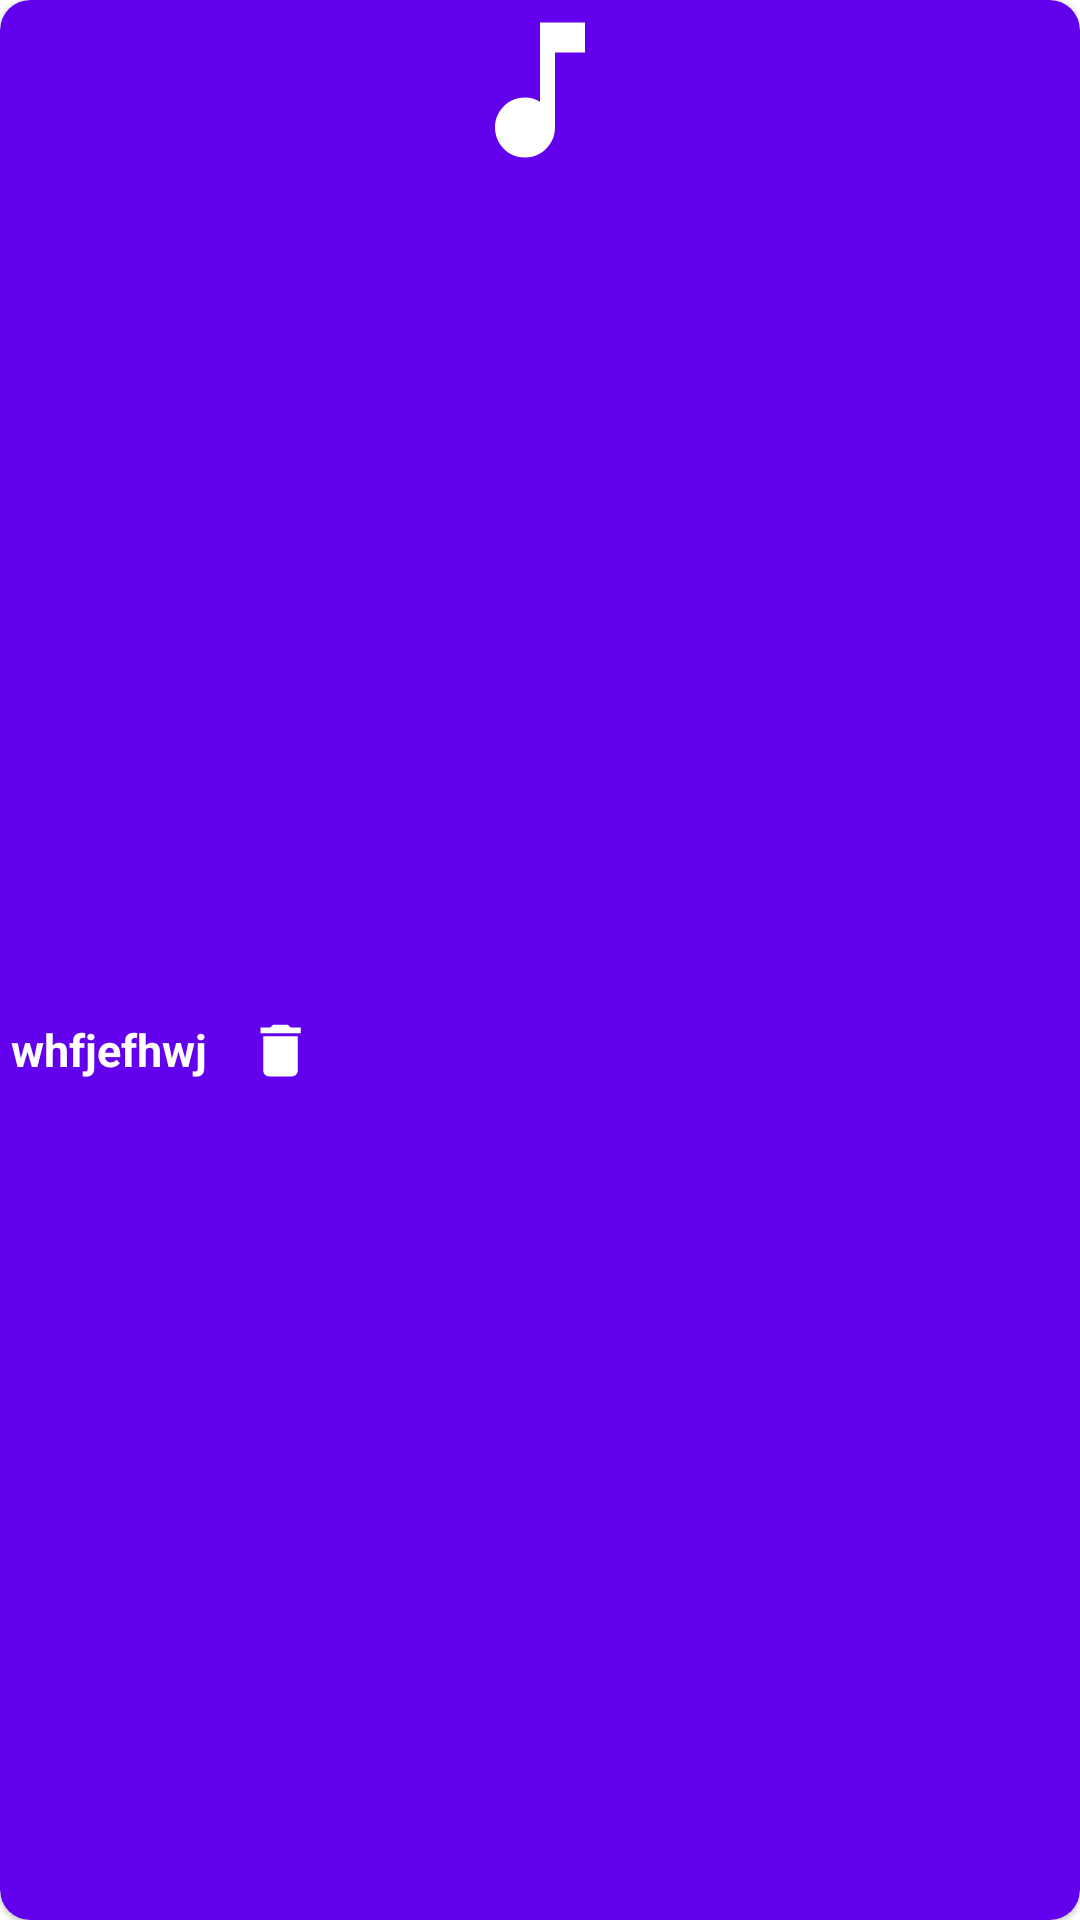

Point at icon controls on the screen. Image size 1080px×1920px, points as (x=x, y=y).
delete: (x=280, y=1050)
